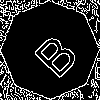B: (25, 25, 81, 81)
